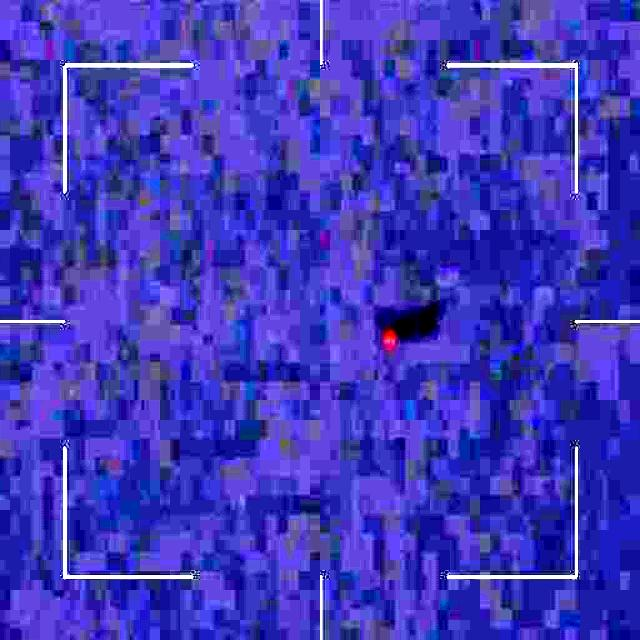bird: (376, 318, 408, 368)
